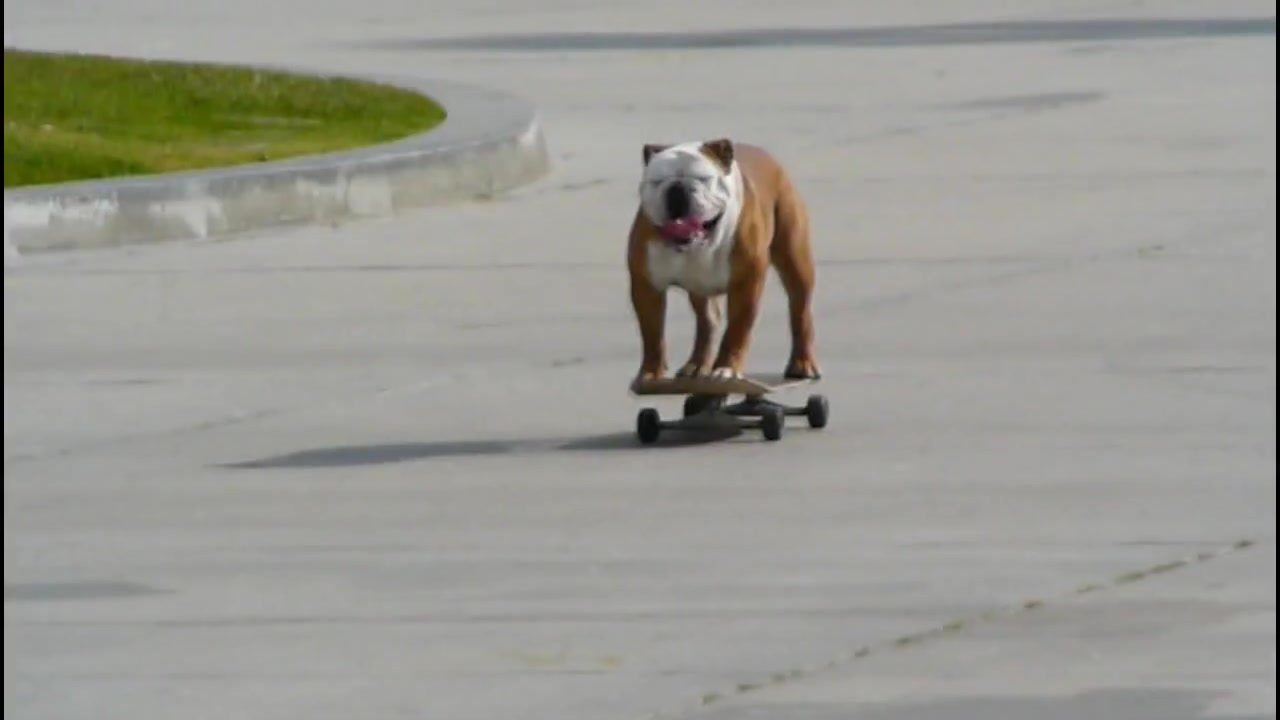dog: (625, 131, 823, 387)
